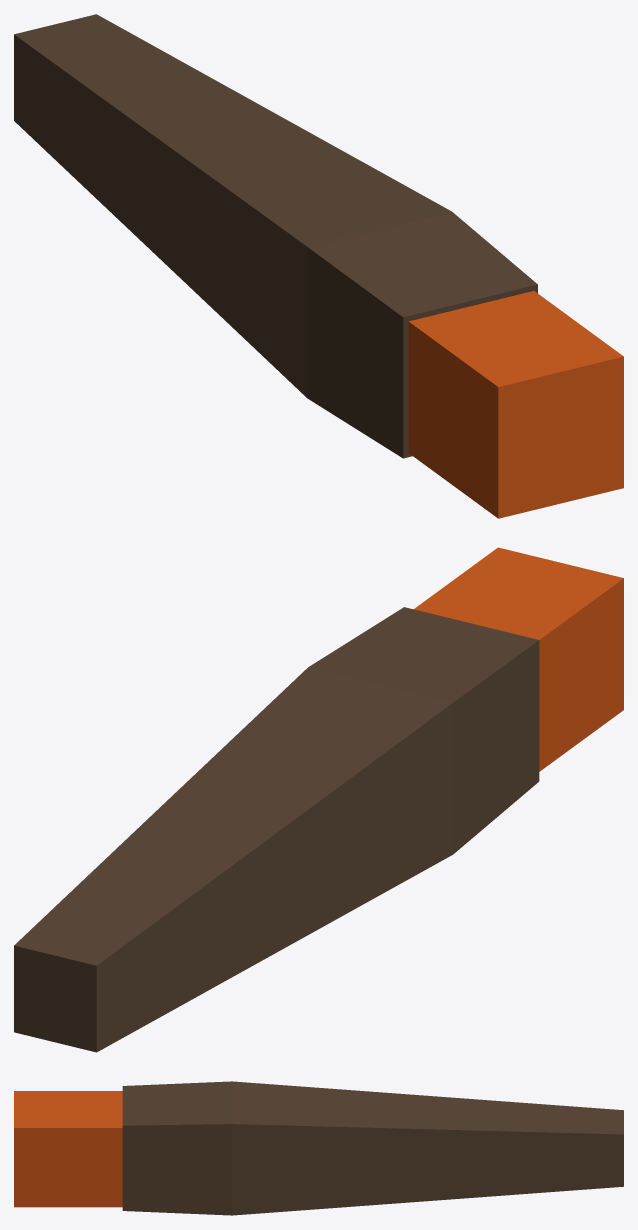
File: torch.fbx
3 renders of one model, top to bottom at view 1: azimuth 30°, elevation 25°; view 2: azimuth 150°, elevation 25°; view 3: azimuth 270°, elevation 25°, orthographic. The views are drawn at different scales.
Parts seen in each view (by area): view 1: Cube, Cube.001; view 2: Cube, Cube.001; view 3: Cube, Cube.001.
Part boxes in pixels (x1,y1,x2,y2): Cube: (14, 14, 537, 458); Cube.001: (408, 291, 623, 518); Cube: (14, 607, 539, 1052); Cube.001: (414, 547, 623, 771); Cube: (122, 1081, 623, 1215); Cube.001: (14, 1091, 122, 1207).
Size of the model in its own units: 54.38 by 54.46 by 329.
